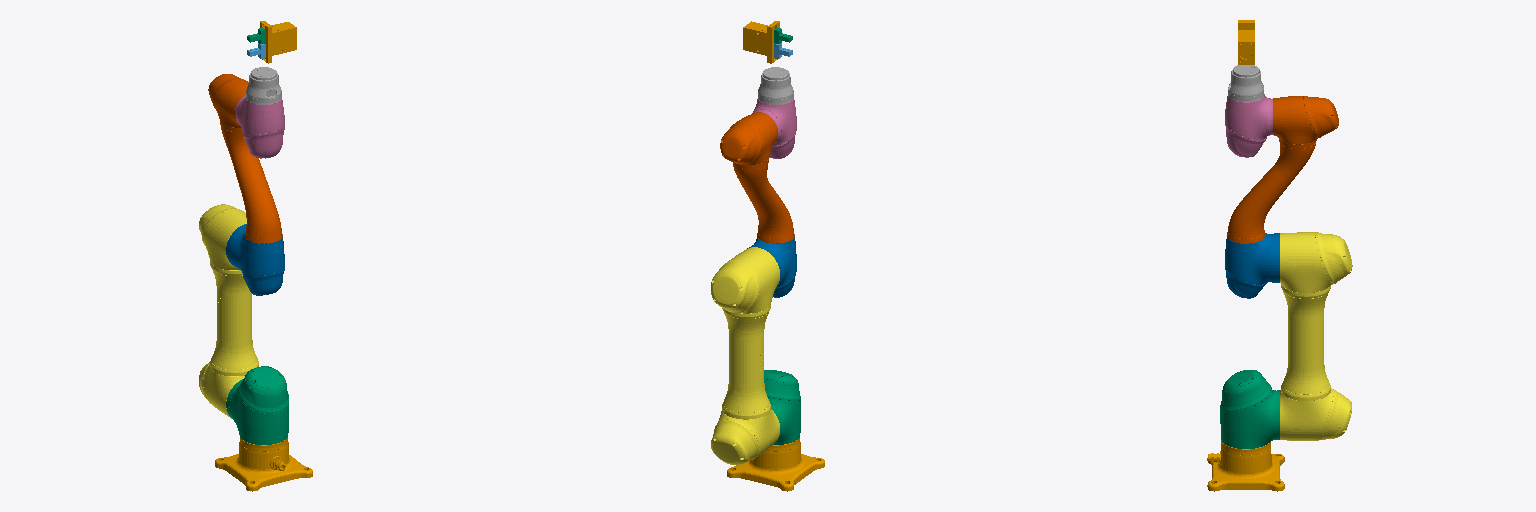
URDF robot description (a0509_two_finger_gripper):
<?xml version='1.0' encoding='UTF-8'?>
<!--
  a0509_two_finger_gripper.urdf
  doosan_a0509/a0509.urdf + two_finger_gripper/two_finger_gripper.urdf 병합.
  gripper_base_link을 link_6에 fixed joint(link_6-gripper_base_link)로 용접.

  *** 미검증 — 시뮬레이터를 돌려본 적이 없어 오프셋/회전 값을 눈으로 확인하지 못했다. ***
  link_6-gripper_base_link의 origin(xyz="0 0 0.079", rpy="3.1415926535 -1.570796327 0")은:
    - xyz z=0.079 : 그리퍼 몸체 높이(마운트면이 로컬 z=+0.079, 손가락 쪽이 -z)만큼 밀어낸 값
    - rpy         : a0509.urdf에 주석처리된 joint_6-tool0의 flange→tool 변환값을 그대로 가져온 것
                    (이 그리퍼 메쉬 전용으로 검증된 값이 아님)
  뷰어에서 그리퍼가 손목에 파묻히거나 엉뚱한 방향을 보면 이 origin/rpy를 조정할 것
  (참고: a0509_stirfry_gripper.urdf의 link_6-stirfry_gripper 조인트도 xyz="0 0 0.016"
  rpy="1.57079632679 0 0"로 그 그리퍼 메쉬에 맞게 직접 튜닝되어 있음 — 동일 작업 필요).
-->
<robot name="a0509_two_finger_gripper">
  <link name="base_link">
    <inertial>
      <mass value="2.198" />
      <origin xyz="-1e-06   -0.001096    0.058957" />
      <inertia ixx="0.010511" ixy="4.9786e-06" ixz="7.1839e-06" iyy="0.012033" iyz="-2.3529e-05" izz="0.012481" />
    </inertial>
    <collision>
      <origin rpy="0 0 0" xyz="0 0 0" />
      <geometry>
        <mesh filename="../doosan_a0509/meshes/a0509_collision/A0509_0_0.stl" scale="1 1 1" />
      </geometry>
    </collision>
    <visual>
      <origin rpy="0 0 0" xyz="0 0 0" />
      <geometry>
        <mesh filename="../doosan_a0509/meshes/a0509_white/A0509_0_0.stl" scale="1 1 1" />
      </geometry>
    </visual>
  </link>
  <link name="base" />
  <joint name="base_link-base" type="fixed">
    <origin rpy="0 0 0" xyz="0 0 0.450" />
    <parent link="base_link" />
    <child link="base" />
  </joint>
  <joint name="joint_1" type="revolute">
    <parent link="base_link" />
    <child link="link_1" />
    <origin rpy="0 0 0" xyz="0 0 0.1560" />
    <axis xyz="0 0 1" />
    <limit effort="194" lower="-6.2832" upper="6.2832" velocity="3.1416" />
    <dynamics friction="0" />
  </joint>
  <link name="link_1">
    <inertial>
      <mass value="3.715" />
      <origin xyz="-6.9e-05    0.024423   -0.007375" />
      <inertia ixx="0.01899" ixy="7.8574e-07" ixz="1.865e-05" iyy="0.013731" iyz="-0.00072828" izz="0.01686" />
    </inertial>
    <collision>
      <origin rpy="0 0 0" xyz="0 0 0" />
      <geometry>
        <mesh filename="../doosan_a0509/meshes/a0509_collision/A0509_1_0.stl" scale="1 1 1" />
      </geometry>
    </collision>
    <visual>
      <origin rpy="0 0 0" xyz="0 0 0" />
      <geometry>
        <mesh filename="../doosan_a0509/meshes/a0509_white/A0509_1_0.stl" scale="1 1 1" />
      </geometry>
    </visual>
    <collision>
      <origin rpy="0 0 0" xyz="0 0 0" />
      <geometry>
        <mesh filename="../doosan_a0509/meshes/a0509_collision/A0509_1_1.stl" scale="1 1 1" />
      </geometry>
    </collision>
    <visual>
      <origin rpy="0 0 0" xyz="0 0 0" />
      <geometry>
        <mesh filename="../doosan_a0509/meshes/a0509_white/A0509_1_1.stl" scale="1 1 1" />
      </geometry>
    </visual>
    <collision>
      <origin rpy="0 0 0" xyz="0 0 0" />
      <geometry>
        <mesh filename="../doosan_a0509/meshes/a0509_collision/A0509_1_2.stl" scale="1 1 1" />
      </geometry>
    </collision>
    <visual>
      <origin rpy="0 0 0" xyz="0 0 0" />
      <geometry>
        <mesh filename="../doosan_a0509/meshes/a0509_white/A0509_1_2.stl" scale="1 1 1" />
      </geometry>
    </visual>
  </link>
  <joint name="joint_2" type="revolute">
    <parent link="link_1" />
    <child link="link_2" />
    <origin rpy="0 -1.571 -1.571" xyz="0 0 0" />
    <axis xyz="0 0 1" />
    <limit effort="194" lower="-6.2832" upper="6.2832" velocity="3.1416" />
    <dynamics friction="0" />
  </joint>
  <link name="link_2">
    <inertial>
      <mass value="6.837" />
      <origin xyz="0.20449 -1.2521e-17     0.13271" />
      <inertia ixx="0.019399" ixy="0.00010317" ixz="4.2985e-06" iyy="0.25627" iyz="5.1674e-06" izz="0.25442" />
    </inertial>
    <collision>
      <origin rpy="0 0 0" xyz="0 0 0" />
      <geometry>
        <mesh filename="../doosan_a0509/meshes/a0509_collision/A0509_2_0.stl" scale="1 1 1" />
      </geometry>
    </collision>
    <visual>
      <origin rpy="0 0 0" xyz="0 0 0" />
      <geometry>
        <mesh filename="../doosan_a0509/meshes/a0509_white/A0509_2_0.stl" scale="1 1 1" />
      </geometry>
    </visual>
    <collision>
      <origin rpy="0 0 0" xyz="0 0 0" />
      <geometry>
        <mesh filename="../doosan_a0509/meshes/a0509_collision/A0509_2_1.stl" scale="1 1 1" />
      </geometry>
    </collision>
    <visual>
      <origin rpy="0 0 0" xyz="0 0 0" />
      <geometry>
        <mesh filename="../doosan_a0509/meshes/a0509_white/A0509_2_1.stl" scale="1 1 1" />
      </geometry>
    </visual>
    <collision>
      <origin rpy="0 0 0" xyz="0 0 0" />
      <geometry>
        <mesh filename="../doosan_a0509/meshes/a0509_collision/A0509_2_2.stl" scale="1 1 1" />
      </geometry>
    </collision>
    <visual>
      <origin rpy="0 0 0" xyz="0 0 0" />
      <geometry>
        <mesh filename="../doosan_a0509/meshes/a0509_white/A0509_2_2.stl" scale="1 1 1" />
      </geometry>
    </visual>
  </link>
  <joint name="joint_3" type="revolute">
    <parent link="link_2" />
    <child link="link_3" />
    <origin rpy="0 0 1.571" xyz="0.409 0 0" />
    <axis xyz="0 0 1" />
    <limit effort="163" lower="-2.7925" upper="2.7925" velocity="3.1416" />
    <dynamics friction="0" />
  </joint>
  <link name="link_3">
    <inertial>
      <mass value="2.769" />
      <origin xyz="7.1e-05   -0.005123    0.033009" />
      <inertia ixx="0.012526" ixy="-7.1869e-06" ixz="1.3345e-05" iyy="0.013868" iyz="-0.00047287" izz="0.0088186" />
    </inertial>
    <collision>
      <origin rpy="0 0 0" xyz="0 0 0" />
      <geometry>
        <mesh filename="../doosan_a0509/meshes/a0509_collision/A0509_3_0.stl" scale="1 1 1" />
      </geometry>
    </collision>
    <visual>
      <origin rpy="0 0 0" xyz="0 0 0" />
      <geometry>
        <mesh filename="../doosan_a0509/meshes/a0509_white/A0509_3_0.stl" scale="1 1 1" />
      </geometry>
    </visual>
    <collision>
      <origin rpy="0 0 0" xyz="0 0 0" />
      <geometry>
        <mesh filename="../doosan_a0509/meshes/a0509_collision/A0509_3_1.stl" scale="1 1 1" />
      </geometry>
    </collision>
    <visual>
      <origin rpy="0 0 0" xyz="0 0 0" />
      <geometry>
        <mesh filename="../doosan_a0509/meshes/a0509_white/A0509_3_1.stl" scale="1 1 1" />
      </geometry>
    </visual>
  </link>
  <joint name="joint_4" type="revolute">
    <parent link="link_3" />
    <child link="link_4" />
    <origin rpy="1.571 0 0" xyz="0 -0.367 0" />
    <axis xyz="0 0 1" />
    <limit effort="50" lower="-6.2832" upper="6.2832" velocity="6.2832" />
    <dynamics friction="0" />
  </joint>
  <link name="link_4">
    <inertial>
      <mass value="2.679" />
      <origin xyz="-8.6e-05    0.086348   -0.086031" />
      <inertia ixx="0.056068" ixy="2.2109e-05" ixz="1.4522e-05" iyy="0.047122" iyz="-0.014997" izz="0.013329" />
    </inertial>
    <collision>
      <origin rpy="0 0 0" xyz="0 0 0" />
      <geometry>
        <mesh filename="../doosan_a0509/meshes/a0509_collision/A0509_4_0.stl" scale="1 1 1" />
      </geometry>
    </collision>
    <visual>
      <origin rpy="0 0 0" xyz="0 0 0" />
      <geometry>
        <mesh filename="../doosan_a0509/meshes/a0509_white/A0509_4_0.stl" scale="1 1 1" />
      </geometry>
    </visual>
    <collision>
      <origin rpy="0 0 0" xyz="0 0 0" />
      <geometry>
        <mesh filename="../doosan_a0509/meshes/a0509_collision/A0509_4_1.stl" scale="1 1 1" />
      </geometry>
    </collision>
    <visual>
      <origin rpy="0 0 0" xyz="0 0 0" />
      <geometry>
        <mesh filename="../doosan_a0509/meshes/a0509_white/A0509_4_1.stl" scale="1 1 1" />
      </geometry>
    </visual>
  </link>
  <joint name="joint_5" type="revolute">
    <parent link="link_4" />
    <child link="link_5" />
    <origin rpy="-1.571 0 0" xyz="0 0 0" />
    <axis xyz="0 0 1" />
    <limit effort="50" lower="-6.2832" upper="6.2832" velocity="6.2832" />
    <dynamics friction="0" />
  </joint>
  <link name="link_5">
    <inertial>
      <mass value="2.051" />
      <origin xyz="9.1e-05   -0.006457    0.015434" />
      <inertia ixx="0.0090788" ixy="-5.3997e-06" ixz="8.3955e-06" iyy="0.0084721" iyz="-0.0001816" izz="0.010453" />
    </inertial>
    <collision>
      <origin rpy="0 0 0" xyz="0 0 0" />
      <geometry>
        <mesh filename="../doosan_a0509/meshes/a0509_collision/A0509_5_0.stl" scale="1 1 1" />
      </geometry>
    </collision>
    <visual>
      <origin rpy="0 0 0" xyz="0 0 0" />
      <geometry>
        <mesh filename="../doosan_a0509/meshes/a0509_white/A0509_5_0.stl" scale="1 1 1" />
      </geometry>
    </visual>
    <collision>
      <origin rpy="0 0 0" xyz="0 0 0" />
      <geometry>
        <mesh filename="../doosan_a0509/meshes/a0509_collision/A0509_5_1.stl" scale="1 1 1" />
      </geometry>
    </collision>
    <visual>
      <origin rpy="0 0 0" xyz="0 0 0" />
      <geometry>
        <mesh filename="../doosan_a0509/meshes/a0509_white/A0509_5_1.stl" scale="1 1 1" />
      </geometry>
    </visual>
  </link>
  <joint name="joint_6" type="revolute">
    <parent link="link_5" />
    <child link="link_6" />
    <origin rpy="1.571 0 0" xyz="0 -0.124 0" />
    <axis xyz="0 0 1" />
    <limit effort="50" lower="-6.2832" upper="6.2832" velocity="6.2832" />
    <dynamics friction="0" />
  </joint>
  <link name="link_6">
    <inertial>
      <mass value="0.773" />
      <origin xyz="-2.2e-05      -7e-06   -0.051746" />
      <inertia ixx="0.0087483" ixy="7.9428e-06" ixz="1.7034e-06" iyy="0.0078566" iyz="9.6857e-06" izz="0.0044452" />
    </inertial>
    <collision>
      <origin rpy="0 0 0" xyz="0 0 0" />
      <geometry>
        <mesh filename="../doosan_a0509/meshes/a0509_collision/A0509_6_0.stl" scale="1 1 1" />
      </geometry>
    </collision>
    <visual>
      <origin rpy="0 0 0" xyz="0 0 0" />
      <geometry>
        <mesh filename="../doosan_a0509/meshes/a0509_white/A0509_6_0.stl" scale="1 1 1" />
      </geometry>
    </visual>
  </link>
  <joint name="link_6-gripper_base_link" type="fixed">
    <origin xyz="0 0 0.079" rpy="3.1415926535 -1.570796327 0" />
    <parent link="link_6" />
    <child link="gripper_base_link" />
  </joint>
  <link name="gripper_base_link">
    <inertial>
      <origin xyz="0 0 0.0395" />
      <mass value="0.25" />
      <inertia ixx="0.0001634" ixy="0" ixz="0" iyy="0.0003220" iyz="0" izz="0.0002253" />
    </inertial>
    <visual>
      <origin xyz="0 0 0" />
      <geometry>
        <mesh filename="../two_finger_gripper/meshes/gripper_body.stl" scale="1 1 1" />
      </geometry>
      <material name="gripper_metal" />
    </visual>
    <collision>
      <origin xyz="0 0 0.0395" />
      <geometry>
        <box size="0.096 0.04 0.079" />
      </geometry>
    </collision>
  </link>
  <link name="gripper_left_finger_link">
    <inertial>
      <origin xyz="-0.019 0 -0.021" />
      <mass value="0.03" />
      <inertia ixx="0.0000050" ixy="0" ixz="0" iyy="0.0000077" iyz="0" izz="0.0000038" />
    </inertial>
    <visual>
      <origin xyz="0 0 0" />
      <geometry>
        <mesh filename="../two_finger_gripper/meshes/gripper_finger_l.stl" scale="1 1 1" />
      </geometry>
      <material name="gripper_metal" />
    </visual>
    <collision>
      <origin xyz="-0.019 0 -0.021" />
      <geometry>
        <box size="0.036 0.015 0.042" />
      </geometry>
    </collision>
  </link>
  <link name="gripper_right_finger_link">
    <inertial>
      <origin xyz="0.019 0 -0.021" />
      <mass value="0.03" />
      <inertia ixx="0.0000050" ixy="0" ixz="0" iyy="0.0000077" iyz="0" izz="0.0000038" />
    </inertial>
    <visual>
      <origin xyz="0 0 0" />
      <geometry>
        <mesh filename="../two_finger_gripper/meshes/gripper_finger_r.stl" scale="1 1 1" />
      </geometry>
      <material name="gripper_metal" />
    </visual>
    <collision>
      <origin xyz="0.019 0 -0.021" />
      <geometry>
        <box size="0.036 0.015 0.042" />
      </geometry>
    </collision>
  </link>
  <joint name="gripper_left_finger_joint" type="prismatic">
    <parent link="gripper_base_link" />
    <child link="gripper_left_finger_link" />
    <origin xyz="0 0 0" />
    <axis xyz="1 0 0" />
    <limit lower="-0.010" upper="0.001" effort="50" velocity="0.1" />
  </joint>
  <joint name="gripper_right_finger_joint" type="prismatic">
    <parent link="gripper_base_link" />
    <child link="gripper_right_finger_link" />
    <origin xyz="0 0 0" />
    <axis xyz="-1 0 0" />
    <limit lower="-0.010" upper="0.001" effort="50" velocity="0.1" />
    <mimic joint="gripper_left_finger_joint" multiplier="1" offset="0" />
  </joint>
</robot>

--- Render facts (derived) ---
The picture shows the robot from 3 angles, left to right: view 1: azimuth 30°, elevation 25°; view 2: azimuth 150°, elevation 25°; view 3: azimuth 270°, elevation 25°; orthographic projection.
Model a0509_two_finger_gripper with 11 links and 10 joints (6 revolute, 2 prismatic, 2 fixed), rooted at base_link, posed all joints at 0.
Links seen in each view (by area): view 1: link_2, link_4, link_1, base_link, link_3, link_5, link_6, gripper_base_link; view 2: link_2, link_4, base_link, link_1, link_5, link_3, link_6, gripper_base_link; view 3: link_2, link_4, link_1, base_link, link_3, link_5, link_6, gripper_base_link.
Link boxes in pixels (x1,y1,x2,y2): link_2: [199, 204, 258, 418]; link_4: [208, 74, 282, 243]; link_1: [226, 366, 288, 444]; base_link: [215, 438, 312, 491]; link_3: [226, 224, 284, 295]; link_5: [235, 95, 284, 158]; link_6: [246, 67, 281, 104]; gripper_base_link: [260, 21, 296, 63]; link_2: [711, 247, 779, 464]; link_4: [720, 112, 794, 243]; base_link: [727, 438, 824, 491]; link_1: [764, 370, 800, 444]; link_5: [752, 99, 796, 158]; link_3: [747, 237, 796, 297]; link_6: [758, 67, 793, 104]; gripper_base_link: [743, 21, 779, 63]; link_2: [1280, 232, 1352, 440]; link_4: [1227, 96, 1338, 243]; link_1: [1220, 370, 1279, 448]; base_link: [1207, 440, 1284, 491]; link_3: [1225, 233, 1279, 298]; link_5: [1225, 95, 1272, 157]; link_6: [1228, 65, 1264, 101]; gripper_base_link: [1238, 20, 1254, 64].
Bounding box of the posed robot: 0.182 × 0.342 × 1.18 m (x, y, z).
Meshes: 17 distinct files referenced, 17 mesh visuals loaded (17 binary STL).
